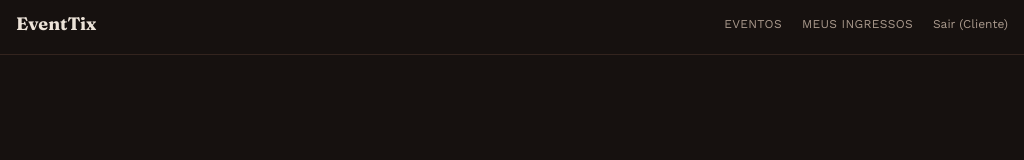
Test case: Navbar › logs out and reverts UI to "Entrar" when logout button is clicked
Click the button "Sair (Cliente)" at x=970, y=24, box [933,16,1008,32]
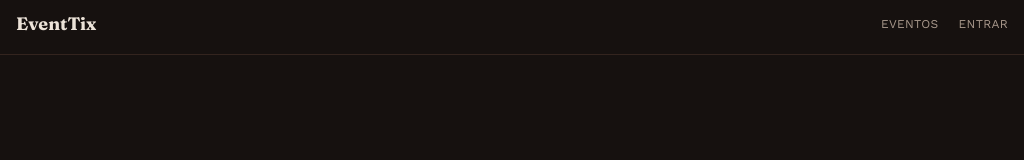
Expected: the link "Entrar" is shown, [959,16,1008,32]
Expected: the button "Sair (Cliente)" is gone
